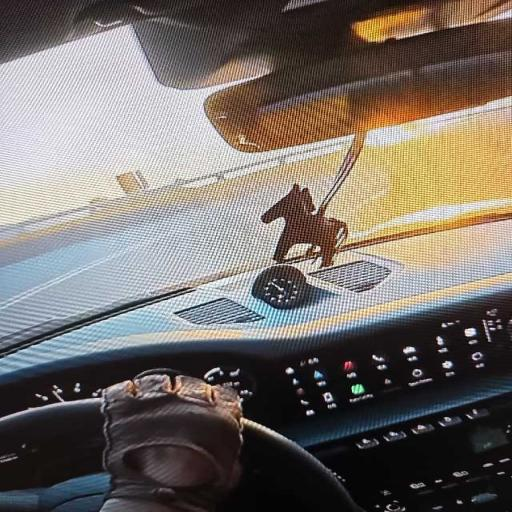car: (0, 0, 511, 511)
lane: (0, 152, 342, 336), (0, 198, 279, 336)
person: (101, 372, 242, 511)
